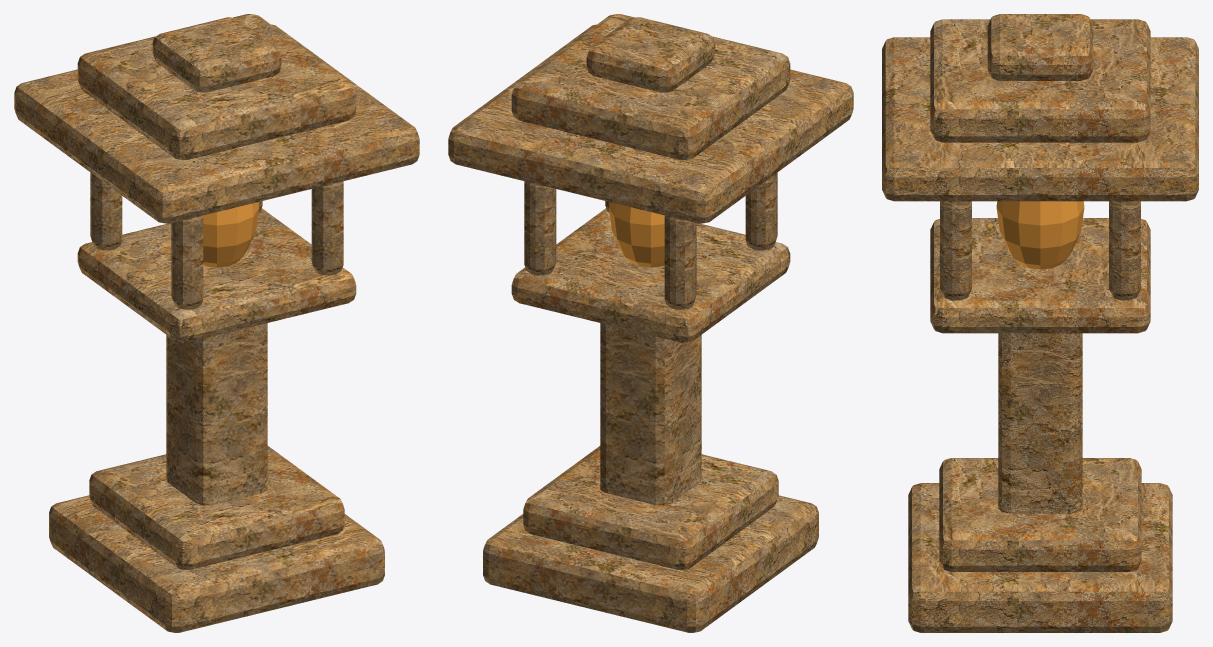
Rendered from Autumn_StoneLantern.fbx.
The picture shows the model from 3 angles, left to right: view 1: azimuth 30°, elevation 25°; view 2: azimuth 150°, elevation 25°; view 3: azimuth 270°, elevation 25°; orthographic projection. The views are drawn at different scales.
Parts seen in each view (by area): view 1: Lantern_Stone.004, Lantern_Stone, Lantern_Stone.005, Lantern_Stone.003, Lantern_Stone.001, Lantern_Stone.002, Lantern_Stone.006, Lantern_Post, Lantern_Post.002, Lantern_Amber, Lantern_Post.001; view 2: Lantern_Stone.004, Lantern_Stone, Lantern_Stone.005, Lantern_Stone.003, Lantern_Stone.001, Lantern_Stone.002, Lantern_Stone.006, Lantern_Post.001, Lantern_Post.003, Lantern_Amber, Lantern_Post; view 3: Lantern_Stone.004, Lantern_Stone, Lantern_Stone.005, Lantern_Stone.001, Lantern_Stone.003, Lantern_Stone.002, Lantern_Stone.006, Lantern_Amber, Lantern_Post.002, Lantern_Post.003.
Part boxes in pixels (left/top/right/bottom): Lantern_Stone.004: left=14, top=24, right=419, bottom=223; Lantern_Stone: left=49, top=495, right=384, bottom=632; Lantern_Stone.005: left=77, top=14, right=356, bottom=159; Lantern_Stone.003: left=77, top=208, right=356, bottom=342; Lantern_Stone.001: left=89, top=446, right=344, bottom=569; Lantern_Stone.002: left=166, top=323, right=267, bottom=505; Lantern_Stone.006: left=152, top=17, right=281, bottom=92; Lantern_Post: left=171, top=215, right=203, bottom=309; Lantern_Post.002: left=311, top=181, right=343, bottom=275; Lantern_Amber: left=203, top=202, right=258, bottom=267; Lantern_Post.001: left=90, top=172, right=122, bottom=250; Lantern_Stone.004: left=448, top=24, right=853, bottom=223; Lantern_Stone: left=483, top=495, right=818, bottom=632; Lantern_Stone.005: left=511, top=14, right=790, bottom=159; Lantern_Stone.003: left=511, top=208, right=790, bottom=342; Lantern_Stone.001: left=523, top=446, right=778, bottom=569; Lantern_Stone.002: left=600, top=323, right=701, bottom=505; Lantern_Stone.006: left=586, top=17, right=715, bottom=92; Lantern_Post.001: left=664, top=215, right=696, bottom=309; Lantern_Post.003: left=524, top=181, right=556, bottom=275; Lantern_Amber: left=609, top=202, right=664, bottom=267; Lantern_Post: left=745, top=172, right=777, bottom=250; Lantern_Stone.004: left=882, top=37, right=1198, bottom=201; Lantern_Stone: left=908, top=483, right=1172, bottom=632; Lantern_Stone.005: left=930, top=19, right=1150, bottom=142; Lantern_Stone.001: left=939, top=458, right=1141, bottom=571; Lantern_Stone.003: left=930, top=218, right=1150, bottom=333; Lantern_Stone.002: left=998, top=333, right=1082, bottom=513; Lantern_Stone.006: left=987, top=14, right=1093, bottom=80; Lantern_Amber: left=996, top=201, right=1084, bottom=269; Lantern_Post.002: left=940, top=201, right=971, bottom=300; Lantern_Post.003: left=1109, top=201, right=1140, bottom=300.
Size of the model in its own units: 180 by 345 by 180.
